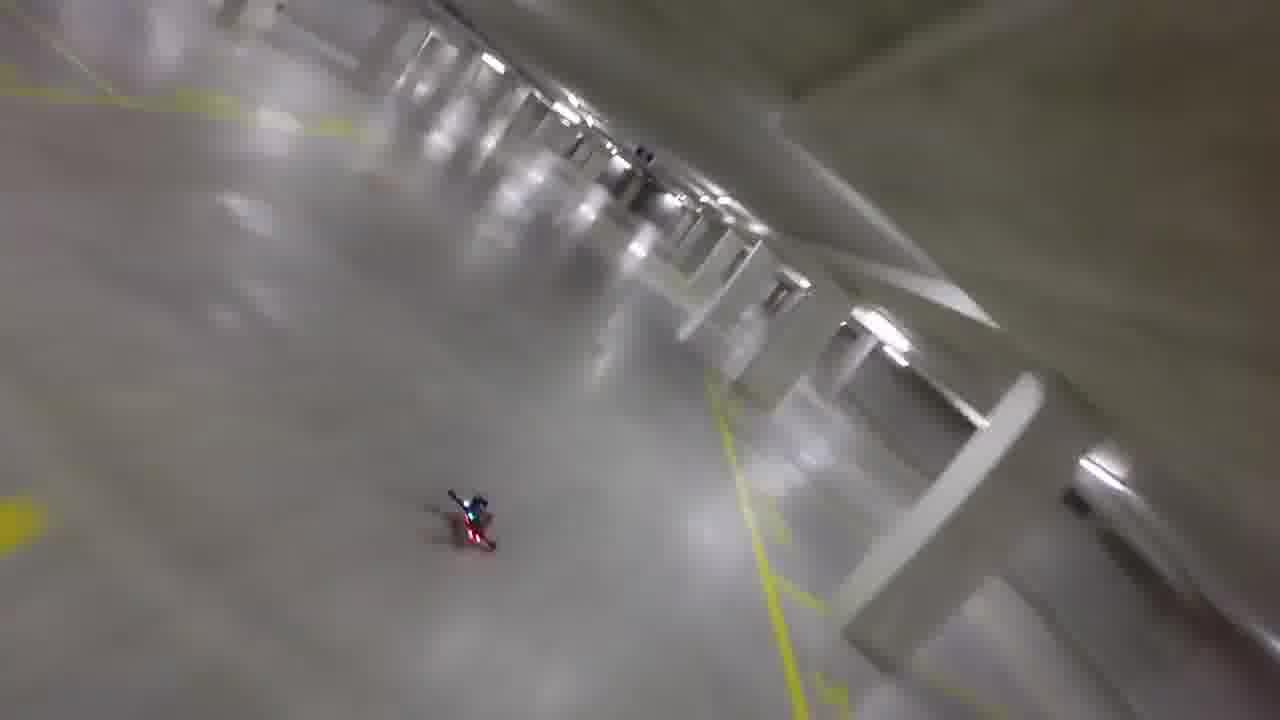drone: (448, 480, 512, 554)
